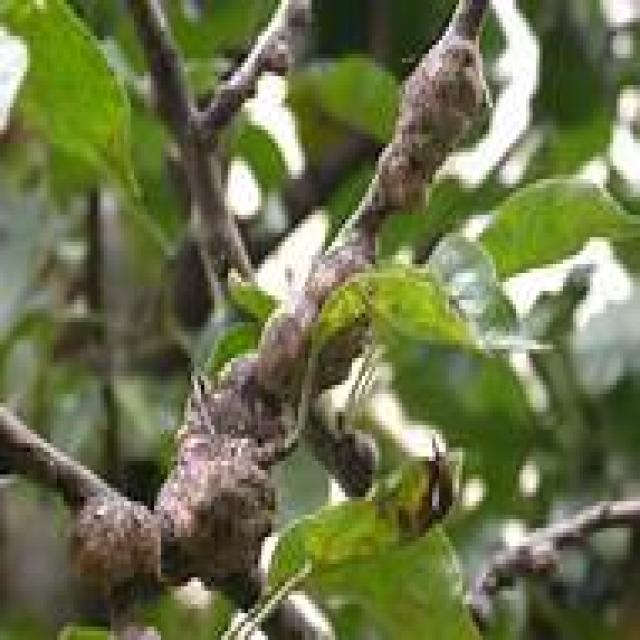Tuberculosis: (154, 309, 305, 595), (375, 31, 486, 215), (70, 479, 157, 622)
